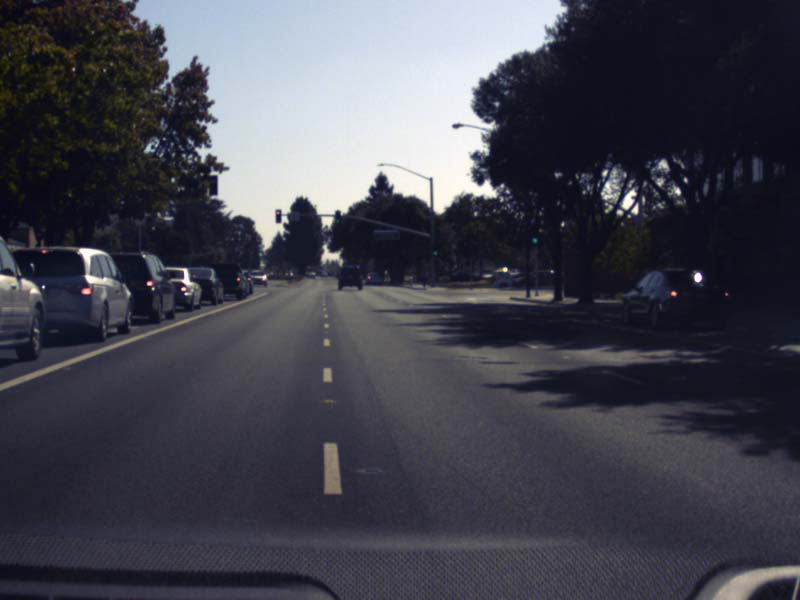Green: (529, 235, 539, 245), (432, 242, 439, 256)
Red: (275, 209, 281, 223)
Yellow: (335, 210, 340, 224)
